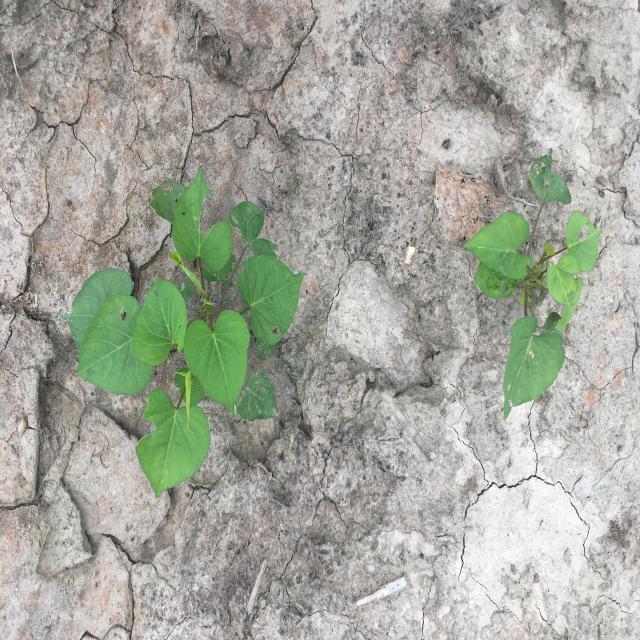MorningGlory: (63, 169, 304, 499), (463, 148, 602, 421)
